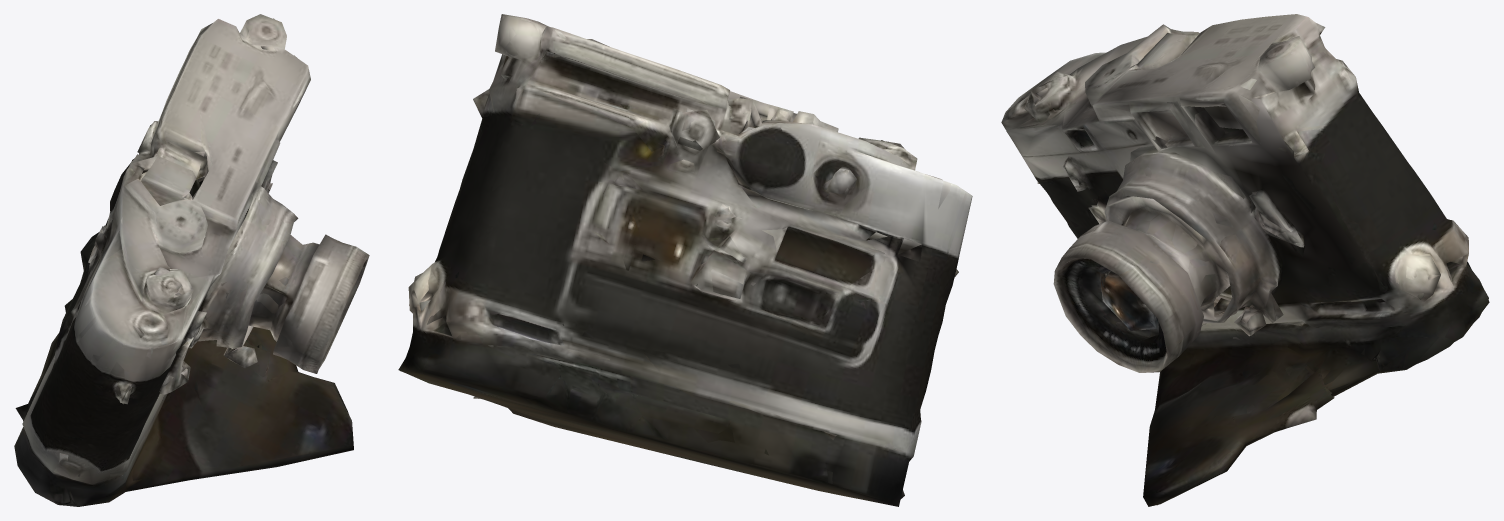
The model's file is leica.glb.
3 views of the same model, side by side, from view 1: azimuth 30°, elevation 25°; view 2: azimuth 150°, elevation 25°; view 3: azimuth 270°, elevation 25° (orthographic). The views are drawn at different scales.
Parts seen in each view (by area): view 1: RETOPO; view 2: RETOPO; view 3: RETOPO.
Boxes of the visible parts, bbox=[...] form: RETOPO: bbox=[14, 14, 369, 506]; RETOPO: bbox=[398, 14, 972, 506]; RETOPO: bbox=[1001, 14, 1489, 506].
Size of the model in its own units: 0.7841 by 0.9329 by 0.9108.
Materials: 1 (1 with a texture image).
